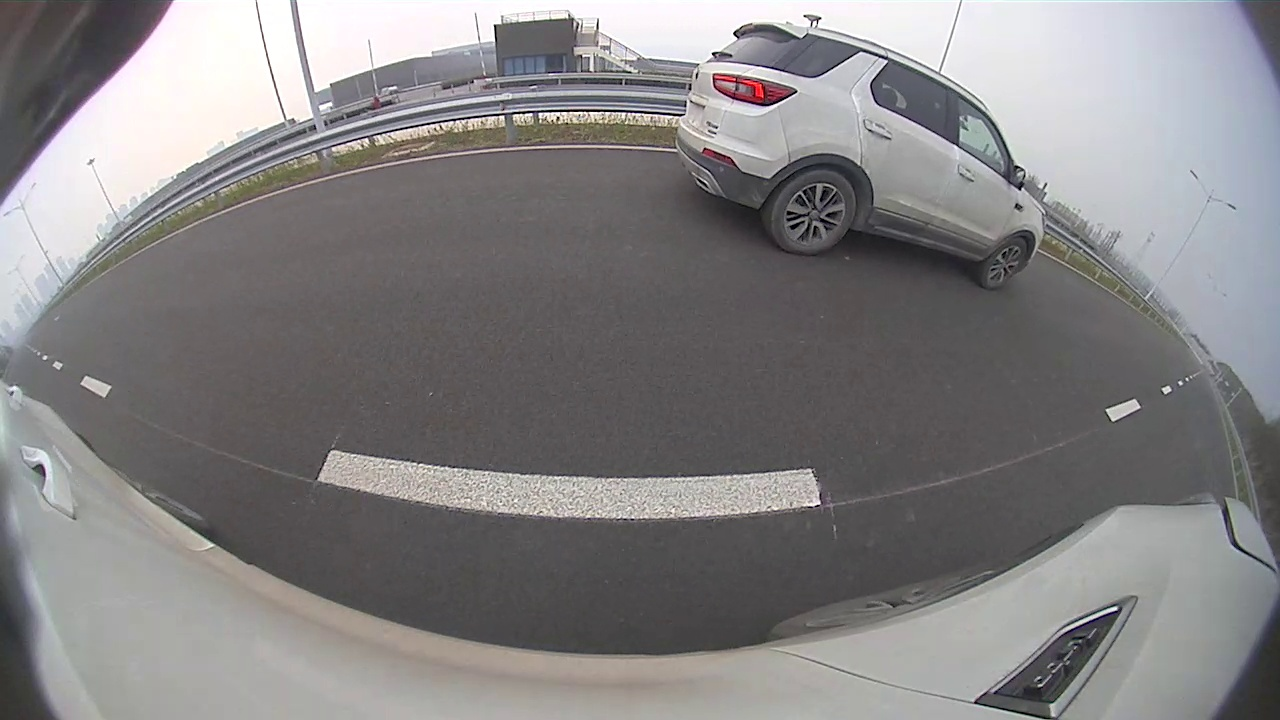car: (675, 22, 1046, 290)
front: (981, 238, 1030, 292)
rear: (772, 170, 856, 257)
